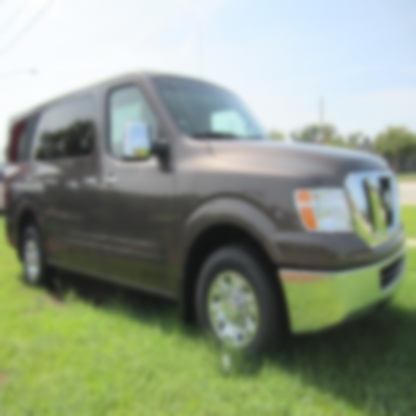Vehicle: (0, 64, 411, 372)
